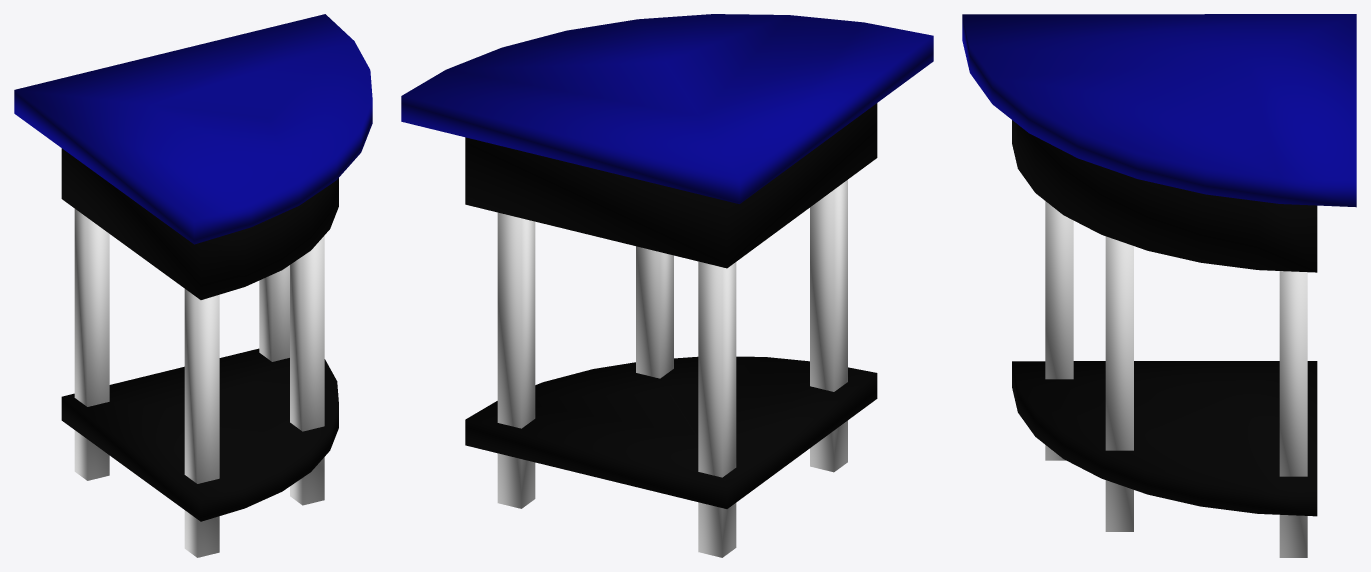
Rendered from CornerTable.glb.
The picture shows the model from 3 angles, left to right: view 1: azimuth 30°, elevation 25°; view 2: azimuth 150°, elevation 25°; view 3: azimuth 270°, elevation 25°; orthographic projection. The views are drawn at different scales.
Visible parts, largest first — view 1: CornerTable; view 2: CornerTable; view 3: CornerTable.
Part boxes in pixels (bbox=[...]): CornerTable: bbox=[14, 14, 372, 557]; CornerTable: bbox=[401, 14, 933, 557]; CornerTable: bbox=[962, 14, 1356, 557].
Bounding box in the file's own units: 1.3 × 1.49 × 1.29.
